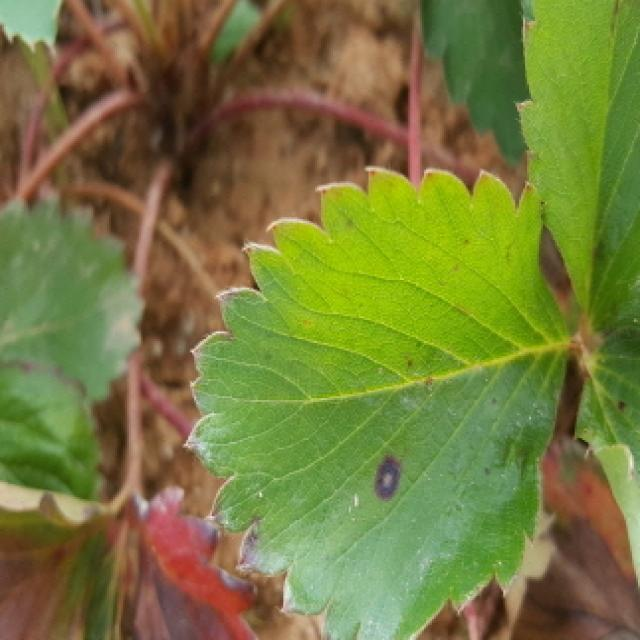Leaf Spot: (180, 163, 576, 640), (516, 0, 640, 349), (575, 335, 640, 591)
